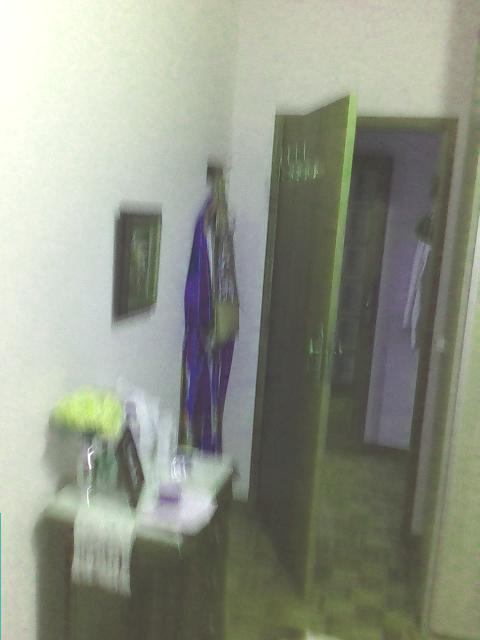semi_door: (246, 92, 458, 595)
